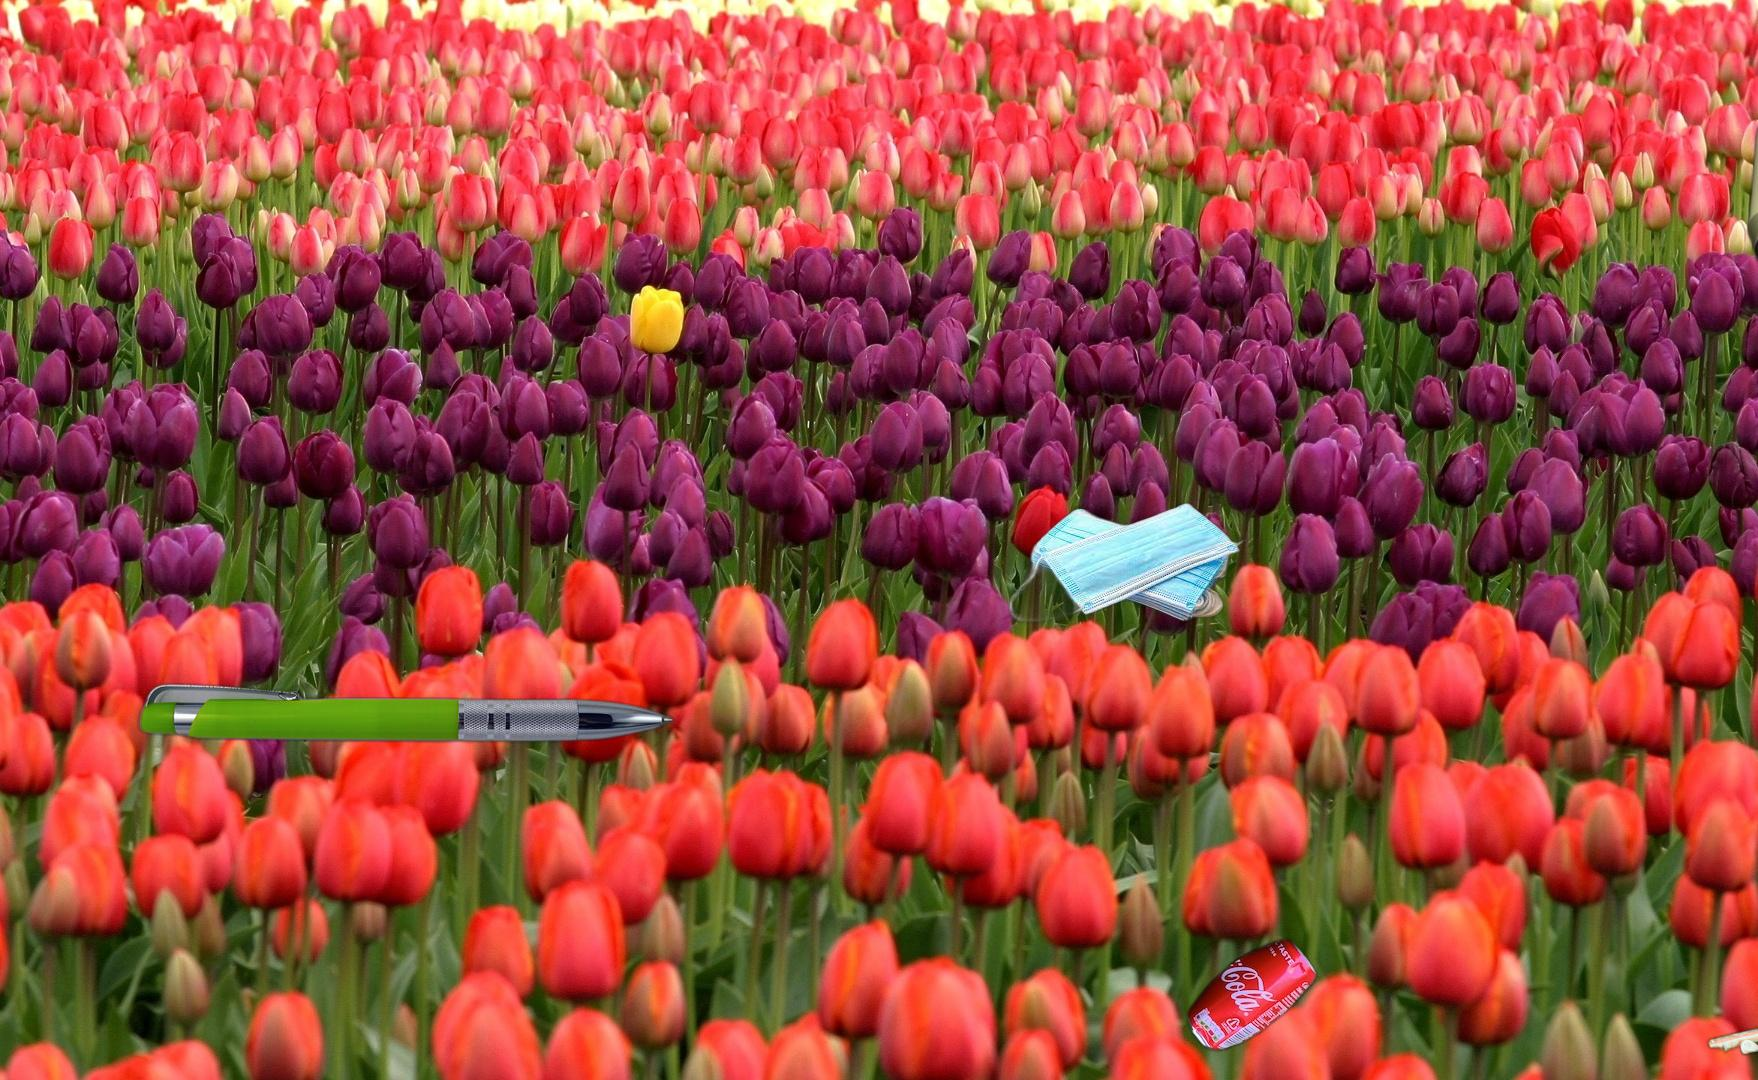glass: (1704, 1013, 1758, 1080)
metal-cans: (1183, 933, 1321, 1057), (1742, 95, 1758, 281)
paper-bag: (240, 1011, 540, 1080)
penholder: (44, 458, 794, 956)
trash: (1005, 500, 1254, 633)
